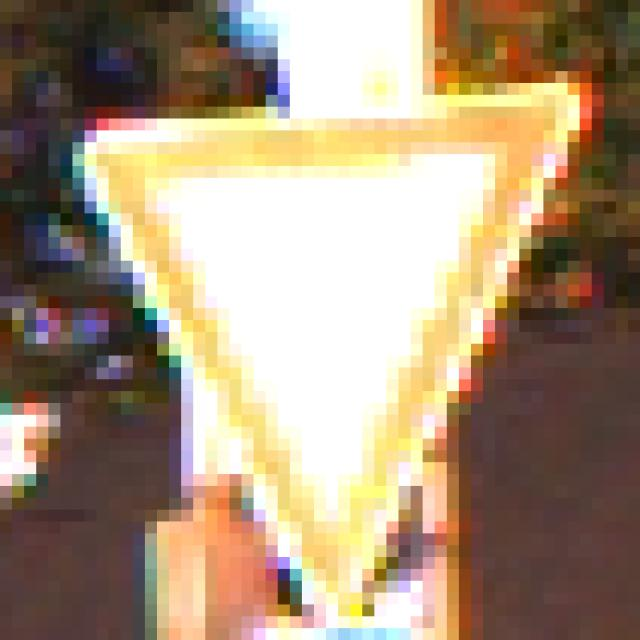Give Way: (74, 60, 581, 582)
